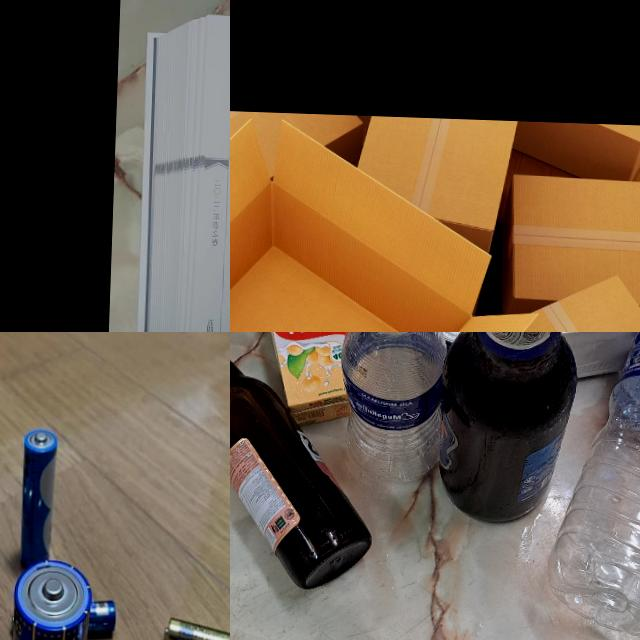bateria: (6, 558, 93, 640), (15, 424, 60, 570), (3, 602, 118, 637), (158, 613, 230, 640)
caixinha: (251, 332, 358, 426)
garrafa de vidro: (230, 337, 379, 591), (435, 332, 582, 527)
garrafa plástica: (230, 116, 540, 332), (542, 332, 640, 640), (336, 332, 450, 486)
papel: (133, 13, 230, 332)
